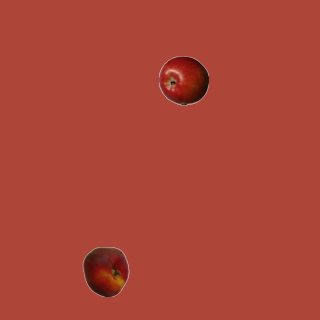Apple Braeburn: (158, 55, 208, 105)
Nectarine Flat: (80, 246, 130, 296)
